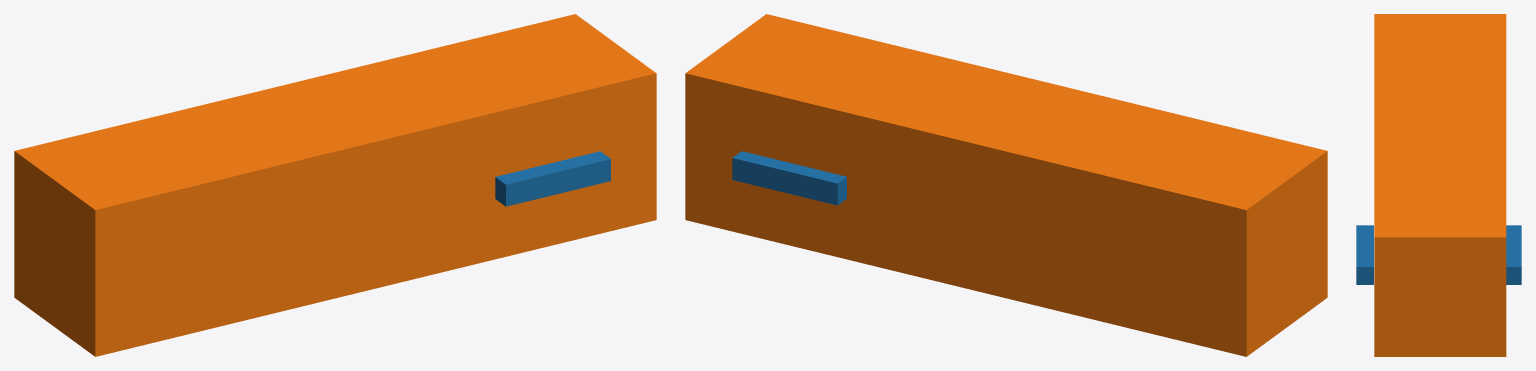
Rendered from airplane.gltf.
The picture shows the model from 3 angles, left to right: view 1: azimuth 30°, elevation 25°; view 2: azimuth 150°, elevation 25°; view 3: azimuth 270°, elevation 25°; orthographic projection. The views are drawn at different scales.
Visible parts, largest first — view 1: Body, Stabilizator; view 2: Body, Stabilizator; view 3: Body, Stabilizator.
Part boxes in pixels (bbox=[...]): Body: bbox=[14, 14, 656, 356]; Stabilizator: bbox=[495, 151, 610, 206]; Body: bbox=[685, 14, 1327, 356]; Stabilizator: bbox=[732, 151, 846, 205]; Body: bbox=[1374, 14, 1506, 356]; Stabilizator: bbox=[1356, 225, 1521, 284].
Size of the model in its own units: 4 by 1 by 1.25.
